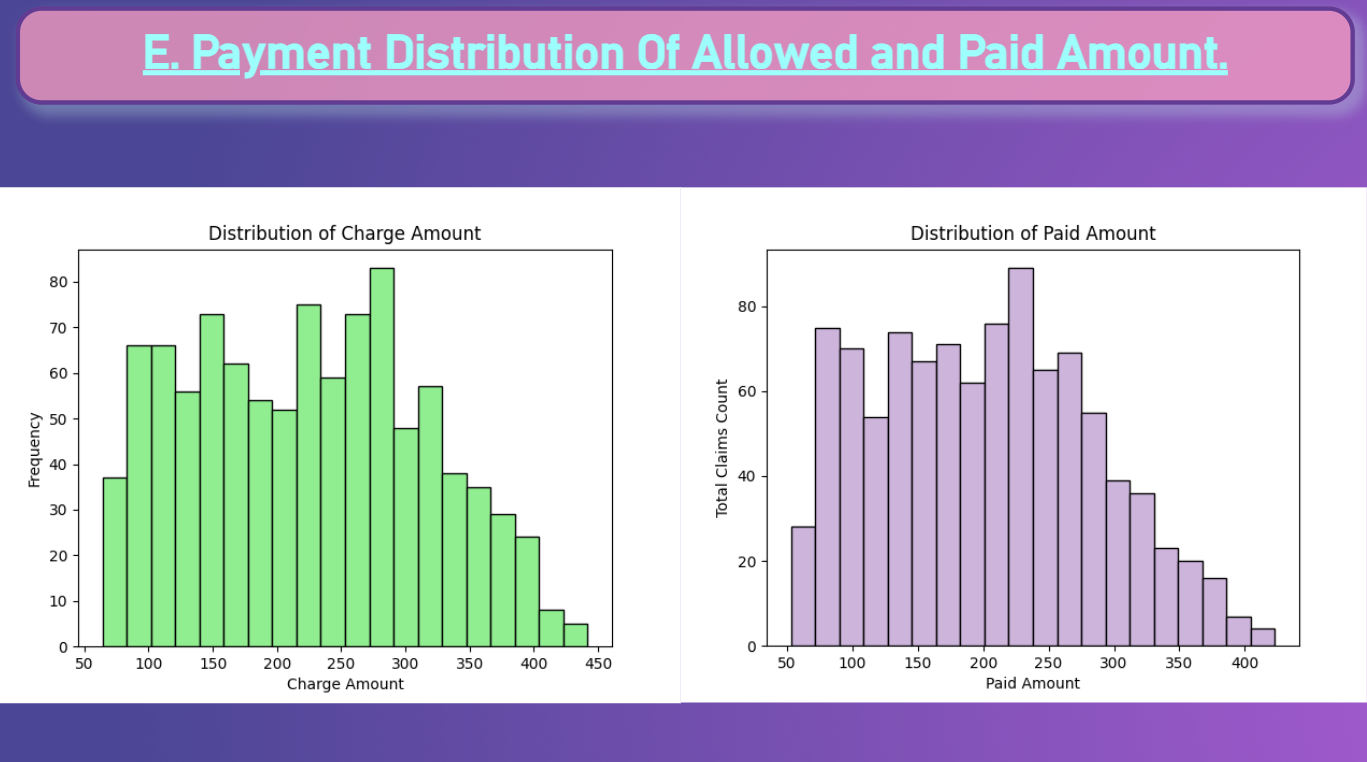

The page's visual inventory and layout, read from the dashboard file:
{"tool":"powerbi","page":{"name":"E. Payment Distribution","canvas":[1280,720],"ordinal":4},"visuals":[{"type":"image","box":[0,119.2,640.6,600],"z":0},{"type":"image","box":[640.6,178.9,639.4,480.8],"z":1},{"type":"textbox","box":[21.6,11.4,1245.7,91.3],"z":3}]}

Visuals, with their boxes in screenshot pixels (x1, y1, x2, y2), scaled from the page's 1280x720 canvas onto the 1367x762 screenshot:
image: region(0, 126, 684, 761)
image: region(684, 189, 1366, 698)
textbox: region(23, 12, 1353, 109)
